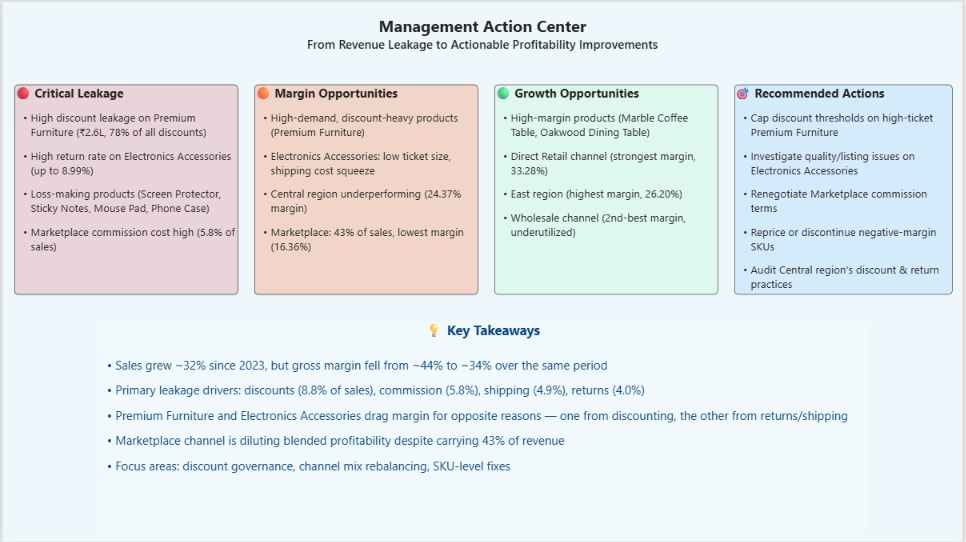

This screenshot's page, from the dashboard's own definition file:
{"tool":"powerbi","page":{"name":"Page 4","canvas":[1920,1080],"ordinal":3},"visuals":[{"type":"textbox","box":[23.5,166.5,447,419.8],"z":0},{"type":"textbox","box":[503.7,166.5,447,419.8],"z":1000},{"type":"textbox","box":[983.9,166.5,447,419.8],"z":2000},{"type":"textbox","box":[1464,166.5,436.1,419.8],"z":3000},{"type":"textbox","box":[190,637,1540,419.8],"z":4000},{"type":"textbox","box":[46,26,1828,98],"z":5000}]}

Visuals, with their boxes in screenshot pixels (x1, y1, x2, y2), scaled from the page's 1920x1080 canvas onto the 966x542 screenshot:
textbox: <bbox>12, 84, 237, 294</bbox>
textbox: <bbox>253, 84, 478, 294</bbox>
textbox: <bbox>495, 84, 720, 294</bbox>
textbox: <bbox>737, 84, 956, 294</bbox>
textbox: <bbox>96, 320, 870, 530</bbox>
textbox: <bbox>23, 13, 943, 62</bbox>
